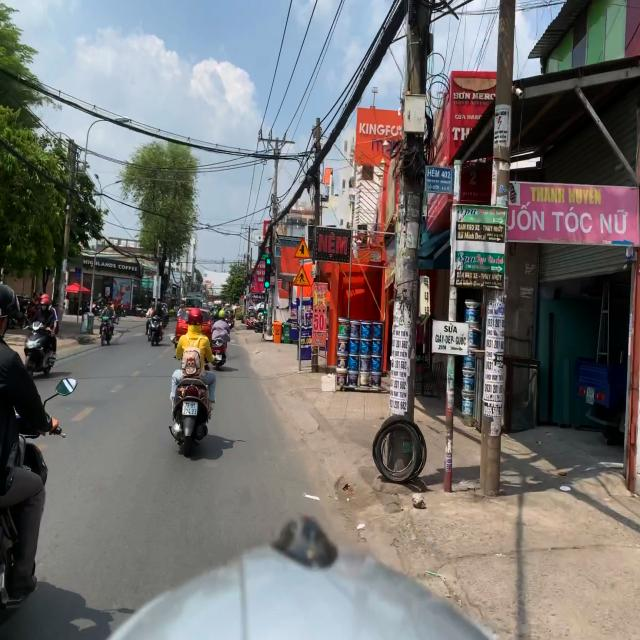Giao voi duong khong uu tien: (294, 238, 310, 258)
Nguoi di bo cat ngang: (292, 265, 311, 286)
